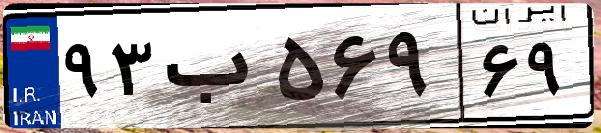3: (110, 28, 158, 98)
5: (270, 28, 330, 110)
6: (330, 28, 385, 110), (475, 38, 525, 113)
9: (385, 28, 445, 110), (57, 26, 110, 100), (525, 38, 570, 115)
ب: (158, 20, 270, 120)
